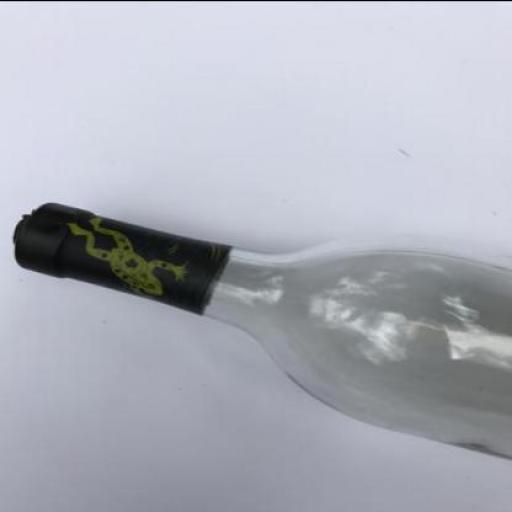glass: (12, 200, 511, 458)
